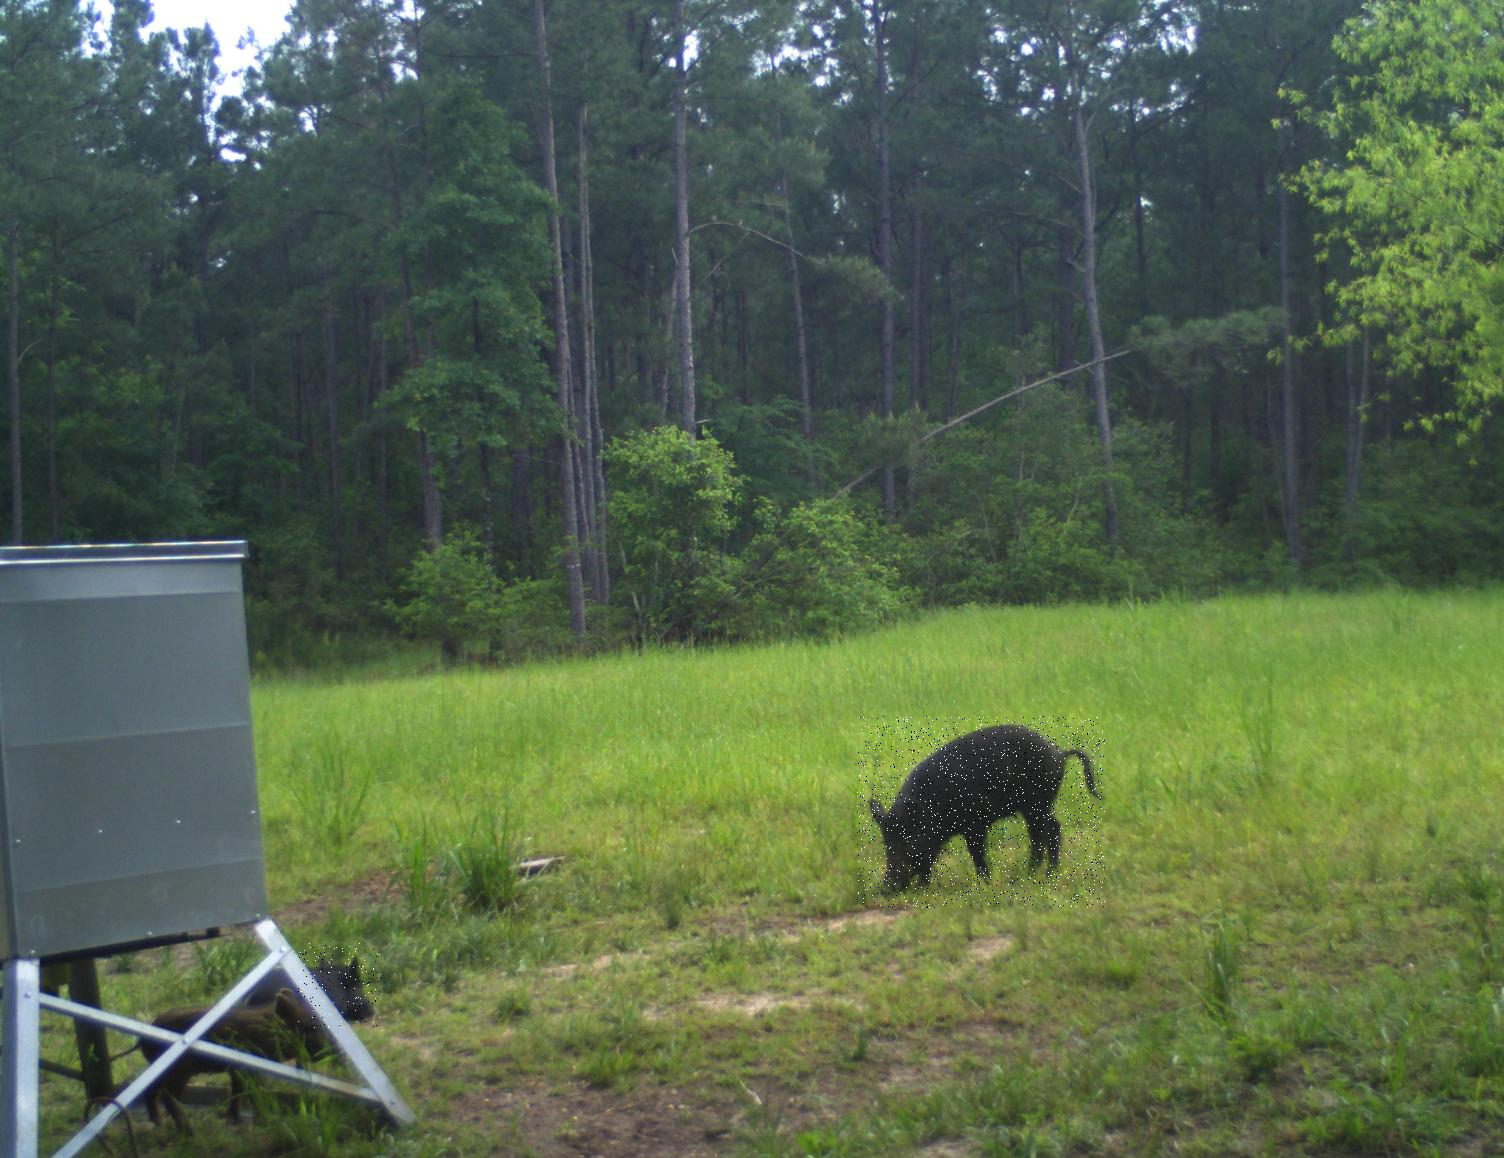Hog: (857, 716, 1105, 907), (298, 941, 381, 1030)
